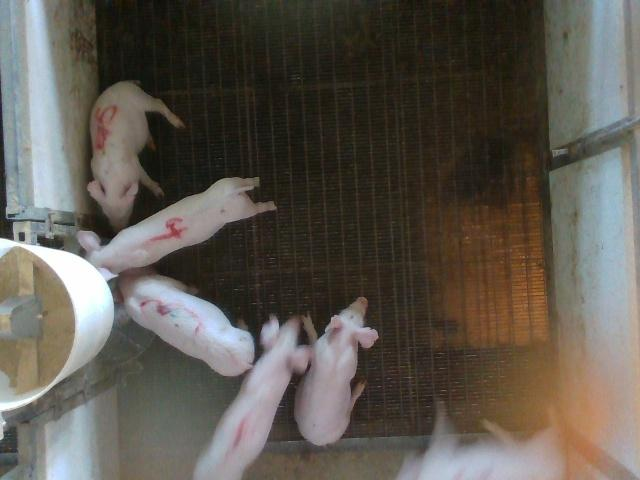pig-3: (194, 315, 310, 479), (119, 269, 254, 376)
pig-4: (78, 178, 276, 279)
pig-5: (88, 81, 184, 231)
